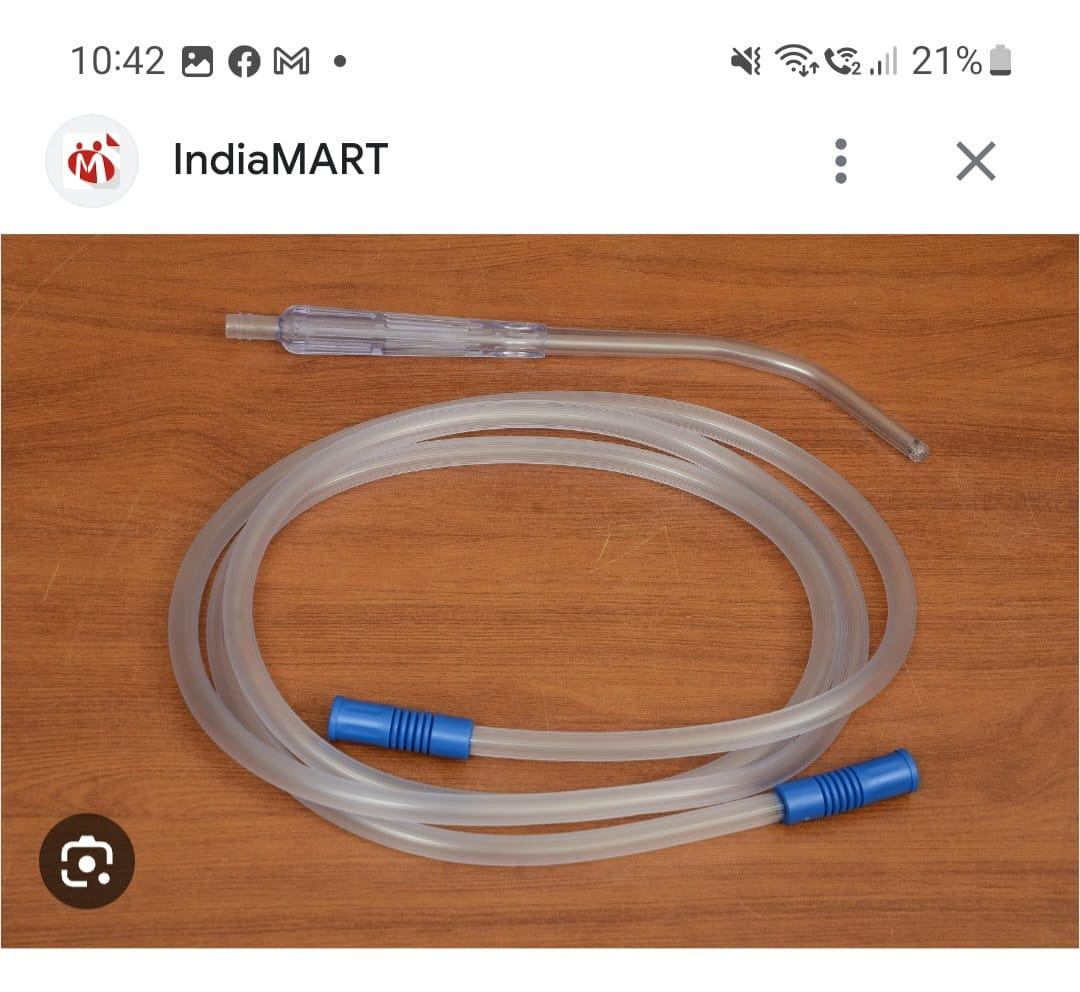Suction Tube Nozzle: (169, 307, 950, 866)
